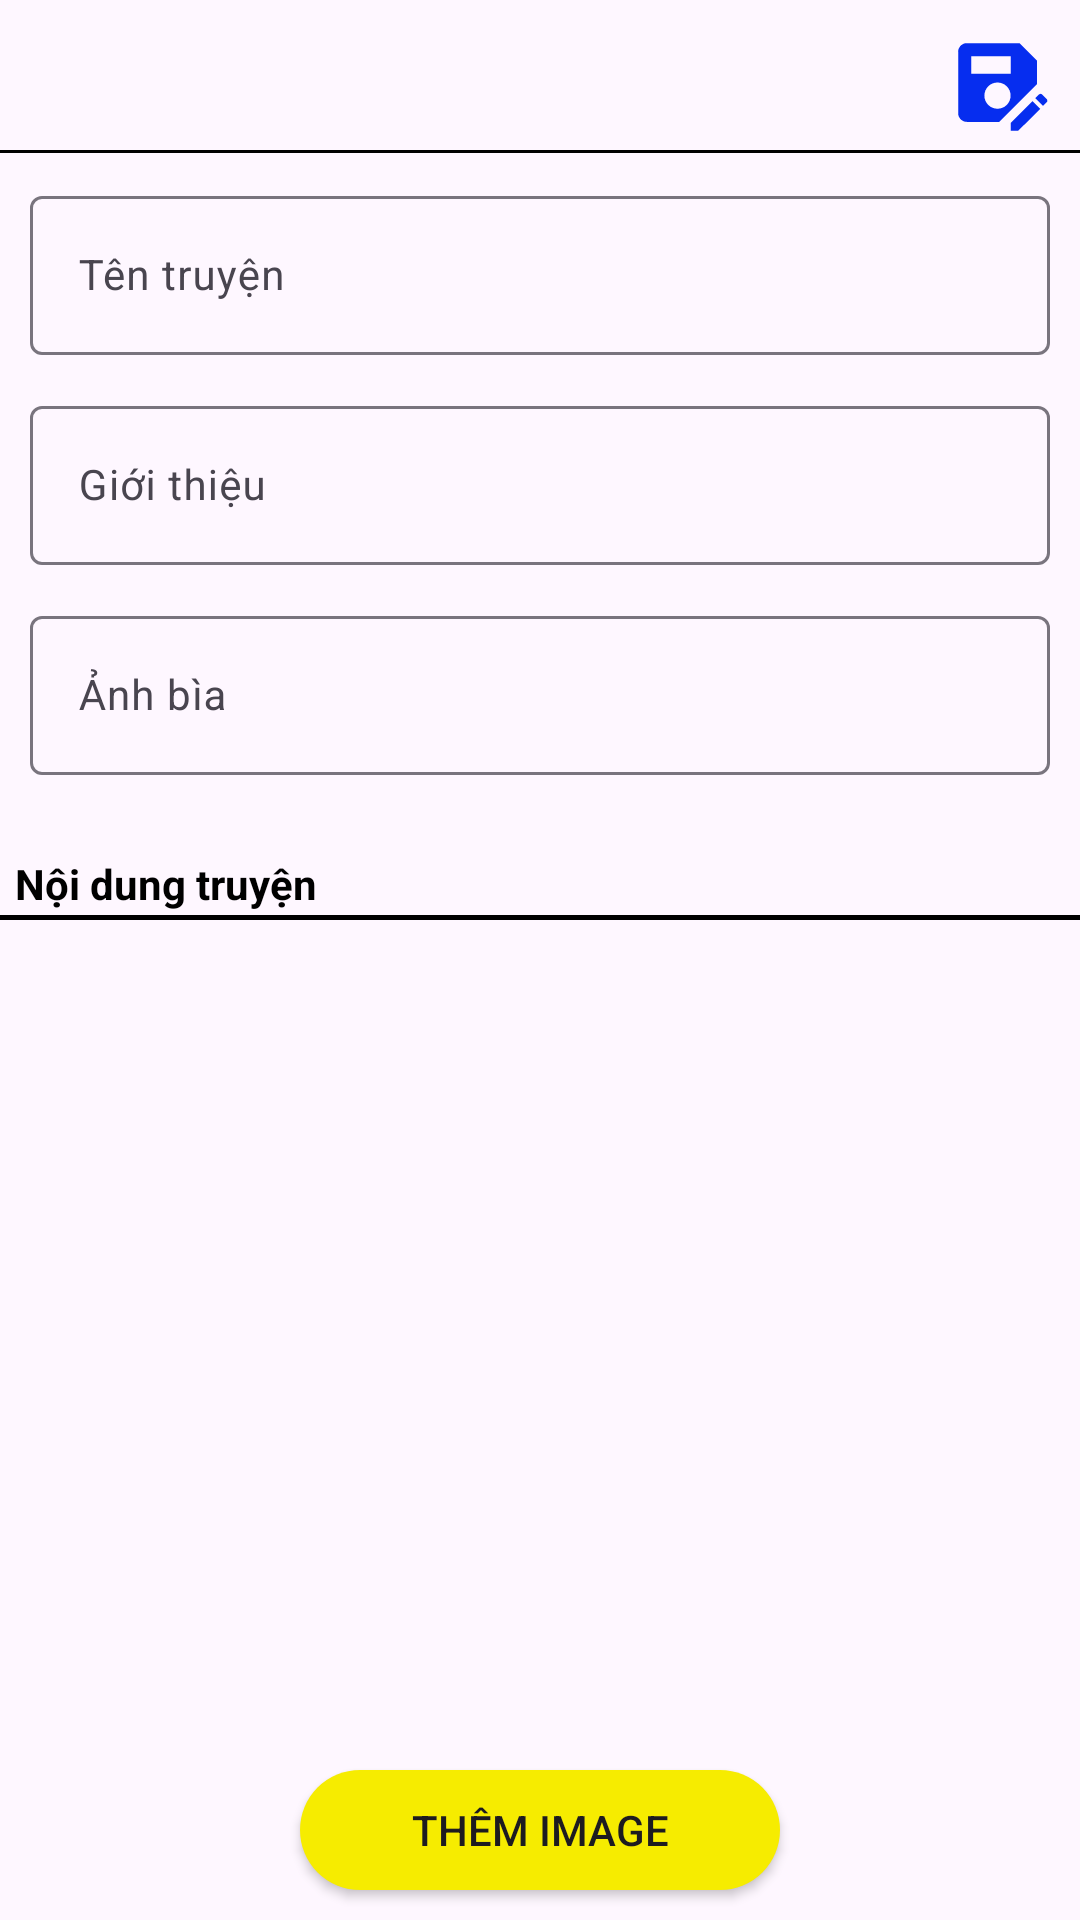

Icons on this 1080px×1920px Android screen, each with its box as (x1, y1, x2, y2):
save as: (958, 43, 1048, 131)
